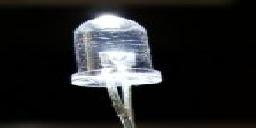LED: (67, 14, 166, 93)
